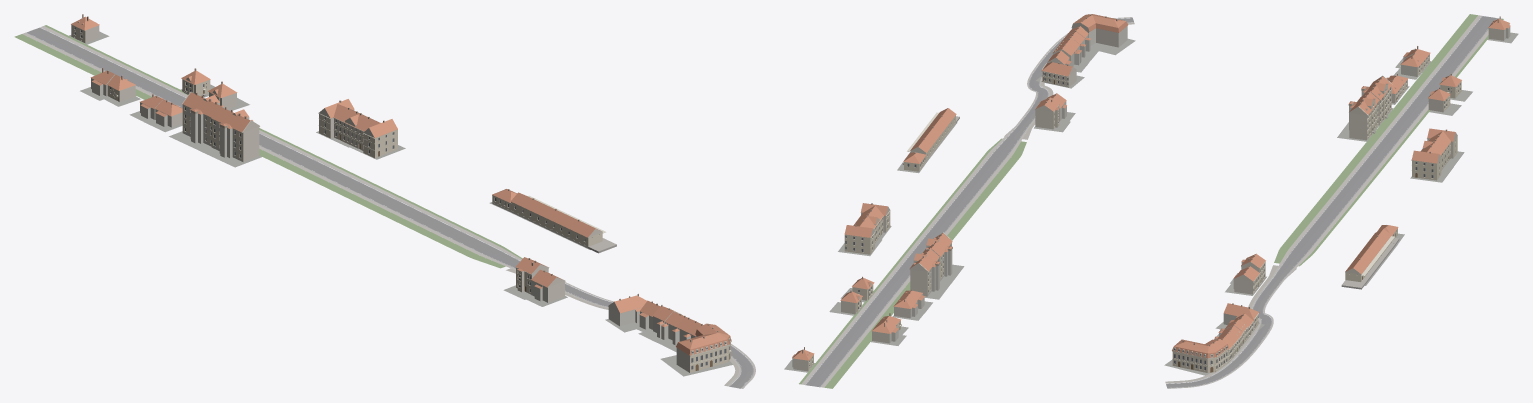
File: rudolfova_street.glb
3 views of the same model, side by side, from view 1: azimuth 30°, elevation 25°; view 2: azimuth 150°, elevation 25°; view 3: azimuth 330°, elevation 25° (orthographic). The views are drawn at different scales.
Parts seen in each view (by area): view 1: Street_Road, Street_Verge_W_lawn, Street_Sidewalk_E, Street_Sidewalk_W, CP_1503_Masonry, CP_729_Roof, Street_Verge_E_lawn, CP_514_Masonry, CP_692_Roof, CP_692_Masonry, CP_729_Masonry, Street_Gutter_E; view 2: Street_Road, Street_Verge_W_lawn, Street_Sidewalk_E, Street_Sidewalk_W, Street_Verge_E_lawn, CP_729_Roof, CP_692_Roof, CP_513_Masonry, CP_692_Masonry, Street_Gutter_E, CP_1504_Masonry, CP_1216_Masonry (+3 smaller); view 3: Street_Road, Street_Verge_W_lawn, Street_Sidewalk_W, Street_Sidewalk_E, CP_692_Masonry, CP_729_Roof, CP_1503_Masonry, CP_692_Roof, Street_Verge_E_lawn, CP_514_Masonry, Street_Gutter_W, Street_Gutter_E (+6 smaller).
Part boxes in pixels (x1=…): Street_Road: x1=27, y1=27, x2=752, y2=388; Street_Verge_W_lawn: x1=14, y1=34, x2=505, y2=268; Street_Sidewalk_E: x1=40, y1=26, x2=755, y2=388; Street_Sidewalk_W: x1=22, y1=32, x2=740, y2=386; CP_1503_Masonry: x1=211, y1=119, x2=259, y2=161; CP_729_Roof: x1=511, y1=192, x2=600, y2=237; Street_Verge_E_lawn: x1=44, y1=25, x2=522, y2=258; CP_514_Masonry: x1=350, y1=126, x2=397, y2=158; CP_692_Roof: x1=676, y1=323, x2=731, y2=355; CP_692_Masonry: x1=676, y1=335, x2=730, y2=372; CP_729_Masonry: x1=511, y1=202, x2=602, y2=246; Street_Gutter_E: x1=40, y1=27, x2=753, y2=388; Street_Road: x1=806, y1=18, x2=1133, y2=387; Street_Verge_W_lawn: x1=824, y1=141, x2=1026, y2=388; Street_Sidewalk_E: x1=801, y1=17, x2=1132, y2=384; Street_Sidewalk_W: x1=821, y1=22, x2=1134, y2=387; Street_Verge_E_lawn: x1=799, y1=138, x2=1002, y2=384; CP_729_Roof: x1=910, y1=108, x2=956, y2=152; CP_692_Roof: x1=1073, y1=14, x2=1128, y2=32; CP_513_Masonry: x1=844, y1=225, x2=877, y2=254; CP_692_Masonry: x1=1072, y1=26, x2=1127, y2=47; Street_Gutter_E: x1=805, y1=18, x2=1132, y2=385; CP_1504_Masonry: x1=910, y1=258, x2=939, y2=296; CP_1216_Masonry: x1=1035, y1=106, x2=1059, y2=129; Street_Road: x1=1166, y1=16, x2=1496, y2=387; Street_Verge_W_lawn: x1=1274, y1=14, x2=1477, y2=263; Street_Sidewalk_W: x1=1165, y1=15, x2=1481, y2=383; Street_Sidewalk_E: x1=1167, y1=18, x2=1501, y2=388; CP_692_Masonry: x1=1172, y1=349, x2=1228, y2=372; CP_729_Roof: x1=1345, y1=229, x2=1391, y2=274; CP_1503_Masonry: x1=1349, y1=102, x2=1378, y2=140; CP_692_Roof: x1=1172, y1=338, x2=1228, y2=358; Street_Verge_E_lawn: x1=1299, y1=18, x2=1503, y2=266; CP_514_Masonry: x1=1412, y1=151, x2=1444, y2=180; Street_Gutter_W: x1=1166, y1=16, x2=1482, y2=384; Street_Gutter_E: x1=1171, y1=18, x2=1496, y2=387.
Size of the model in its own units: 149 by 23.55 by 580.
